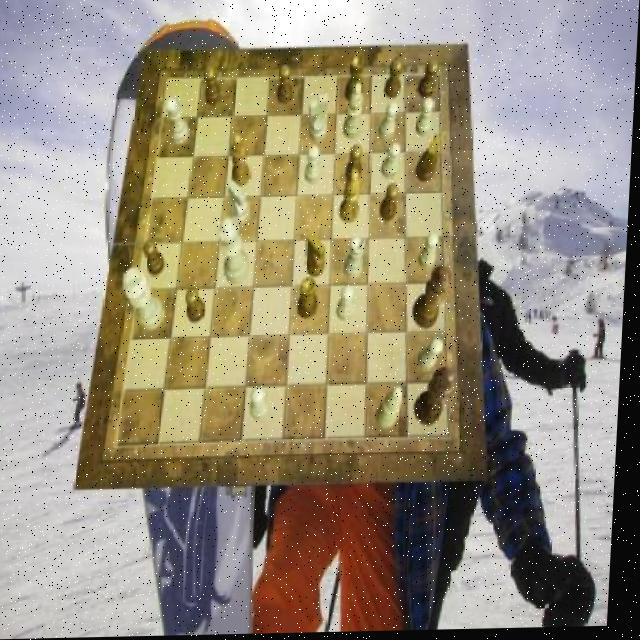bishop: (231, 134, 254, 188), (342, 171, 364, 225)
black-bishop: (418, 369, 461, 429)
black-king: (418, 137, 443, 185), (308, 232, 330, 278)
black-knight: (146, 241, 170, 278), (188, 289, 210, 325), (386, 60, 405, 101), (203, 67, 222, 107), (419, 62, 439, 100), (381, 185, 400, 224), (277, 66, 295, 106), (348, 146, 366, 184)
black-pawn: (415, 267, 456, 332)
black-queen: (346, 57, 366, 105), (301, 277, 322, 320)
black-rook: (381, 388, 408, 431), (345, 85, 365, 141)
white-bishop: (125, 267, 170, 332)
white-king: (229, 182, 255, 228), (309, 96, 330, 144)
white-knight: (423, 339, 447, 374), (421, 234, 443, 272), (306, 146, 325, 185), (417, 100, 436, 139), (380, 104, 399, 142), (340, 288, 359, 324), (255, 389, 275, 423), (383, 145, 402, 180)
white-pawn: (219, 219, 255, 287)
white-queen: (166, 98, 193, 146), (347, 235, 369, 280)
